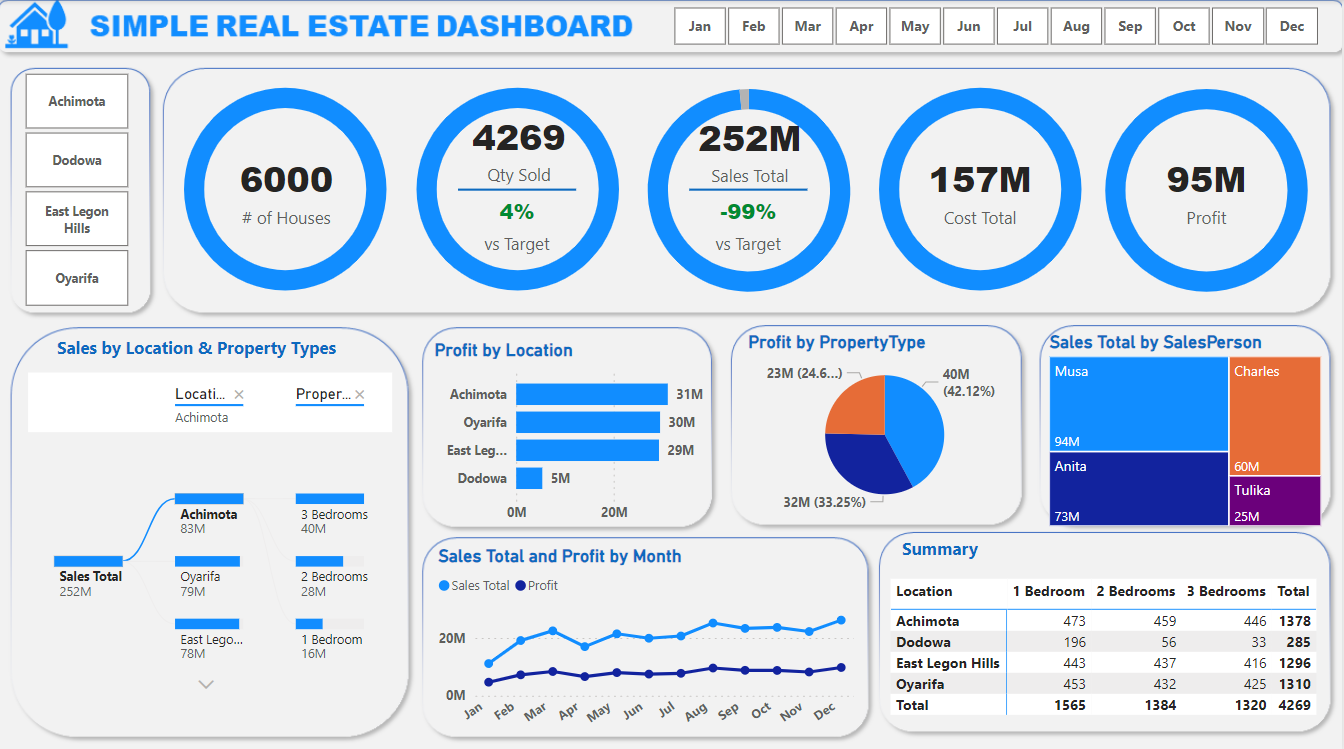

This screenshot's page, from the dashboard's own definition file:
{"tool":"powerbi","page":{"name":"Dashboard","canvas":[1280,720],"ordinal":0},"visuals":[{"type":"slicer","fields":{"Values":["Location.Location"]},"box":[0,63.1,148.2,234.6],"z":0},{"type":"slicer","fields":{"Values":["Calender.Month"]},"box":[617.5,0,662.8,49.4],"z":1000},{"type":"donutChart","fields":{"Y":["All Measures.No of Houses"]},"box":[144.1,54.9,259.3,251.1],"z":2000},{"type":"card","fields":{"Values":["All Measures.No of Houses"]},"box":[194.9,122.1,159.2,118],"z":3000},{"type":"donutChart","fields":{"Y":["All Measures.Qty Sold","All Measures.Qty to Target"]},"box":[365,54.9,259.3,251.1],"z":4000},{"type":"donutChart","fields":{"Y":["All Measures.Sales to Target","All Measures.Sales Total"]},"box":[585.9,56.3,259.3,251.1],"z":5000},{"type":"donutChart","fields":{"Y":["All Measures.No of Houses"]},"box":[805.5,54.9,259.3,251.1],"z":6000},{"type":"donutChart","fields":{"Y":["All Measures.No of Houses"]},"box":[1020.9,56.3,259.3,251.1],"z":7000},{"type":"card","fields":{"Values":["All Measures.Qty Sold"]},"box":[437.7,101.5,116.6,79.6],"z":8000},{"type":"card","fields":{"Values":["All Measures.% of Qty to Target"]},"box":[455.6,181.1,76.8,65.9],"z":9000},{"type":"shape","box":[437.7,160.5,112.5,39.8],"z":10000},{"type":"card","fields":{"Values":["All Measures.Sales Total"]},"box":[647.7,102.9,137.2,79.6],"z":11000},{"type":"shape","box":[658.7,160.5,112.5,39.8],"z":12000},{"type":"card","fields":{"Values":["All Measures.% of Sales to Target"]},"box":[676.5,181.1,76.8,65.9],"z":13000},{"type":"card","fields":{"Values":["All Measures.Cost Total"]},"box":[856.3,122.1,159.2,118],"z":14000},{"type":"card","fields":{"Values":["All Measures.Profit"]},"box":[1071.7,122.1,159.2,118],"z":15000},{"type":"decompositionTreeVisual","fields":{"Analyze":["All Measures.Sales Total"],"ExplainBy":["Location.Location","PropertyType.PropertyType"]},"box":[23.3,349.6,356.8,347.4],"z":16000},{"type":"clusteredBarChart","fields":{"Y":["All Measures.Profit"],"Category":["Location.Location"]},"box":[410.3,322.5,279.9,183.9],"z":17000},{"type":"pieChart","fields":{"Y":["All Measures.Profit"],"Category":["PropertyType.PropertyType"]},"box":[709.4,315.6,270.3,178.4],"z":18000},{"type":"treemap","fields":{"Values":["All Measures.Sales Total"],"Group":["SalesPerson.SalesPerson"]},"box":[996.2,315.6,269,190.7],"z":19000},{"type":"lineChart","fields":{"Y":["All Measures.Sales Total","All Measures.Profit"],"Category":["Calender.Month"]},"box":[414.4,518.7,406.2,190.7],"z":20000},{"type":"pivotTable","fields":{"Rows":["Location.Location"],"Columns":["PropertyType.PropertyType"],"Values":["All Measures.Qty Sold"]},"box":[845.3,546.1,419.9,150.9],"z":21000},{"type":"textbox","box":[856.3,506.3,113.9,39.8],"z":22000},{"type":"textbox","box":[50.8,314.2,310.1,36.8],"z":23000}]}

Visuals, with their boxes in screenshot pixels (x1, y1, x2, y2), scaled from the page's 1280x720 canvas onto the 1344x749 screenshot:
slicer - Location.Location: [x1=0, y1=66, x2=156, y2=310]
slicer - Calender.Month: [x1=648, y1=0, x2=1343, y2=51]
donutChart - All Measures.No of Houses: [x1=151, y1=57, x2=424, y2=318]
card - All Measures.No of Houses: [x1=205, y1=127, x2=372, y2=250]
donutChart - All Measures.Qty Sold x All Measures.Qty to Target: [x1=383, y1=57, x2=656, y2=318]
donutChart - All Measures.Sales to Target x All Measures.Sales Total: [x1=615, y1=59, x2=887, y2=320]
donutChart - All Measures.No of Houses: [x1=846, y1=57, x2=1118, y2=318]
donutChart - All Measures.No of Houses: [x1=1072, y1=59, x2=1343, y2=320]
card - All Measures.Qty Sold: [x1=460, y1=106, x2=582, y2=188]
card - All Measures.% of Qty to Target: [x1=478, y1=188, x2=559, y2=257]
shape: [x1=460, y1=167, x2=578, y2=208]
card - All Measures.Sales Total: [x1=680, y1=107, x2=824, y2=190]
shape: [x1=692, y1=167, x2=810, y2=208]
card - All Measures.% of Sales to Target: [x1=710, y1=188, x2=791, y2=257]
card - All Measures.Cost Total: [x1=899, y1=127, x2=1066, y2=250]
card - All Measures.Profit: [x1=1125, y1=127, x2=1292, y2=250]
decompositionTreeVisual - All Measures.Sales Total x Location.Location: [x1=24, y1=364, x2=399, y2=725]
clusteredBarChart - All Measures.Profit x Location.Location: [x1=431, y1=335, x2=725, y2=527]
pieChart - All Measures.Profit x PropertyType.PropertyType: [x1=745, y1=328, x2=1029, y2=514]
treemap - All Measures.Sales Total x SalesPerson.SalesPerson: [x1=1046, y1=328, x2=1328, y2=527]
lineChart - All Measures.Sales Total x All Measures.Profit: [x1=435, y1=540, x2=862, y2=738]
pivotTable - Location.Location x PropertyType.PropertyType: [x1=888, y1=568, x2=1328, y2=725]
textbox: [x1=899, y1=527, x2=1019, y2=568]
textbox: [x1=53, y1=327, x2=379, y2=365]
